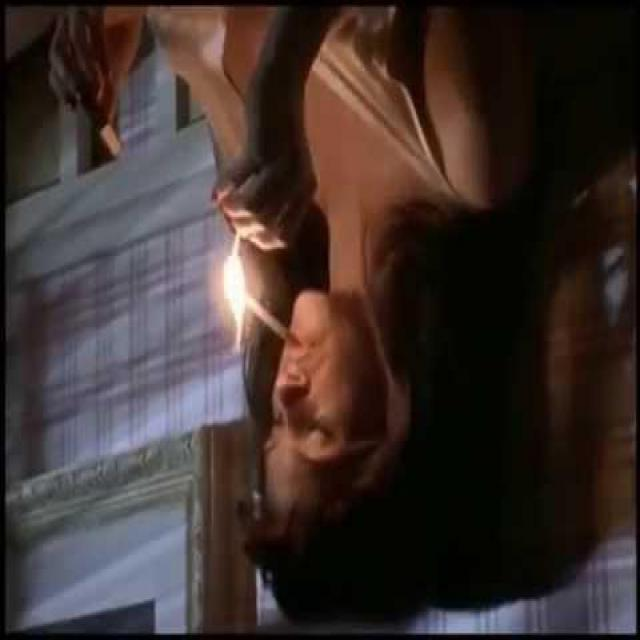cigarette: (226, 282, 302, 348)
